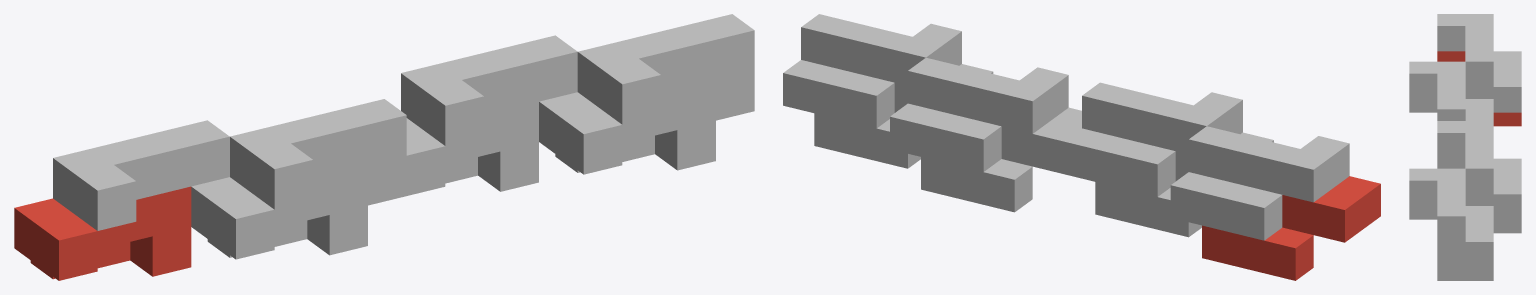
File: tiling.obj
3 renders of one model, left to right at view 1: azimuth 30°, elevation 25°; view 2: azimuth 150°, elevation 25°; view 3: azimuth 270°, elevation 25°, orthographic. The views are drawn at different scales.
Parts seen in each view (by area): view 1: copy_1_domain_8, copy_1_domain_4, copy_1_domain_3, copy_1_domain_7, copy_1_domain_1, copy_1_domain_6, copy_1_domain_2, copy_1_domain_5; view 2: copy_1_domain_3, copy_1_domain_7, copy_1_domain_4, copy_1_domain_8, copy_1_domain_1, copy_1_domain_5, copy_1_domain_6, copy_1_domain_2; view 3: copy_1_domain_8, copy_1_domain_3, copy_1_domain_7, copy_1_domain_4, copy_1_domain_6, copy_1_domain_1, copy_1_domain_5, copy_1_domain_2.
Part boxes in pixels (x1,y1,x2,y2): copy_1_domain_8: (577, 14, 754, 124); copy_1_domain_4: (230, 99, 406, 209); copy_1_domain_3: (53, 120, 229, 230); copy_1_domain_7: (401, 35, 577, 145); copy_1_domain_1: (14, 186, 191, 280); copy_1_domain_6: (539, 80, 715, 174); copy_1_domain_2: (191, 165, 367, 259); copy_1_domain_5: (406, 101, 538, 195); copy_1_domain_3: (1170, 126, 1349, 240); copy_1_domain_7: (890, 57, 1068, 171); copy_1_domain_4: (1064, 82, 1242, 196); copy_1_domain_8: (783, 14, 961, 128); copy_1_domain_1: (1202, 176, 1380, 280); copy_1_domain_5: (921, 107, 1081, 212); copy_1_domain_6: (814, 64, 993, 168); copy_1_domain_2: (1095, 132, 1273, 237); copy_1_domain_8: (1409, 168, 1493, 267); copy_1_domain_3: (1437, 14, 1521, 112); copy_1_domain_7: (1437, 121, 1521, 219); copy_1_domain_4: (1409, 61, 1493, 120); copy_1_domain_6: (1409, 206, 1493, 280); copy_1_domain_1: (1437, 51, 1521, 126); copy_1_domain_5: (1437, 158, 1521, 233); copy_1_domain_2: (1409, 99, 1437, 112).
Size of the model in its own units: 18 by 3 by 4.
